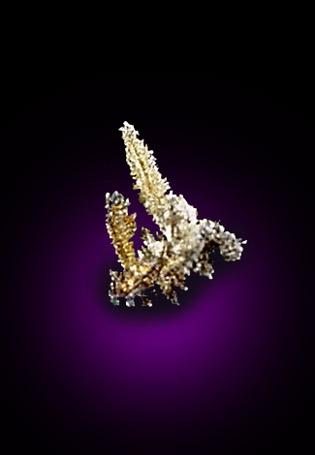silver: (106, 122, 246, 306)
